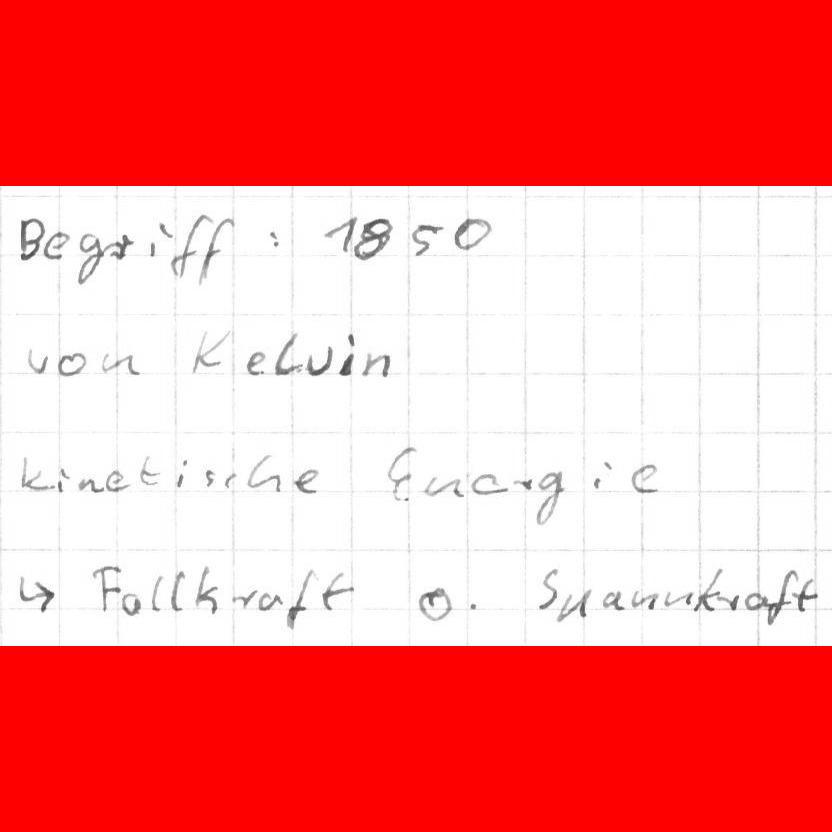Char: (194, 215, 236, 287), (168, 210, 207, 283), (383, 444, 420, 502), (284, 568, 318, 630), (763, 569, 799, 624), (354, 216, 394, 264), (534, 468, 566, 527), (190, 326, 230, 372), (322, 210, 360, 254), (318, 568, 356, 610), (272, 331, 305, 379), (415, 583, 455, 622), (90, 563, 121, 613), (75, 230, 103, 285), (405, 218, 444, 257), (19, 572, 54, 615), (553, 587, 592, 624), (452, 215, 492, 251), (193, 563, 222, 612), (16, 213, 43, 262), (696, 566, 723, 613), (247, 453, 279, 491), (20, 453, 51, 492), (99, 349, 140, 376), (629, 461, 661, 494), (425, 471, 463, 498), (535, 566, 558, 609), (336, 331, 357, 378), (149, 220, 174, 258), (470, 471, 505, 498), (360, 349, 391, 379), (795, 576, 817, 616), (589, 456, 614, 491), (137, 453, 161, 488), (293, 466, 321, 496), (56, 350, 88, 375), (106, 232, 134, 260), (44, 231, 70, 261), (171, 568, 189, 611), (661, 587, 695, 608), (306, 345, 329, 376), (149, 572, 166, 613), (118, 590, 143, 617), (244, 349, 268, 377), (26, 345, 49, 374), (105, 468, 130, 494), (257, 589, 283, 613), (630, 588, 658, 609), (173, 456, 190, 490), (232, 587, 257, 610), (602, 587, 625, 610), (76, 473, 103, 492), (744, 590, 768, 610), (264, 226, 284, 249), (54, 463, 69, 493), (717, 593, 740, 612), (201, 467, 219, 488), (512, 473, 533, 491), (221, 471, 240, 490), (463, 597, 482, 614)
